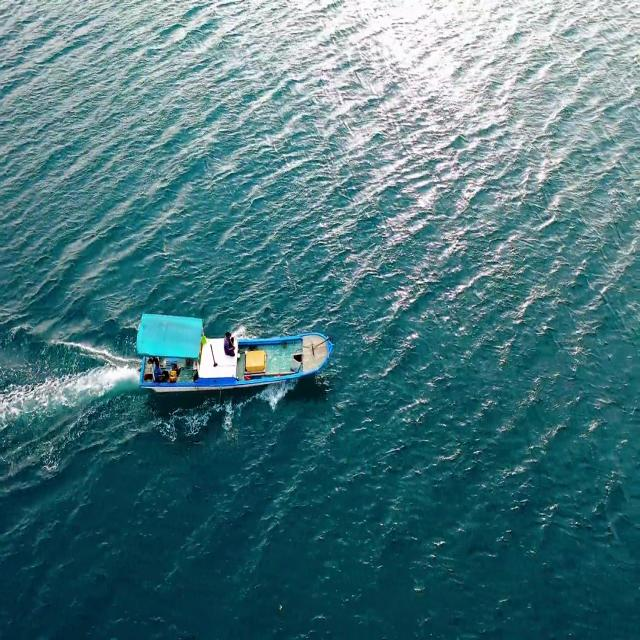ship: (130, 306, 337, 393)
